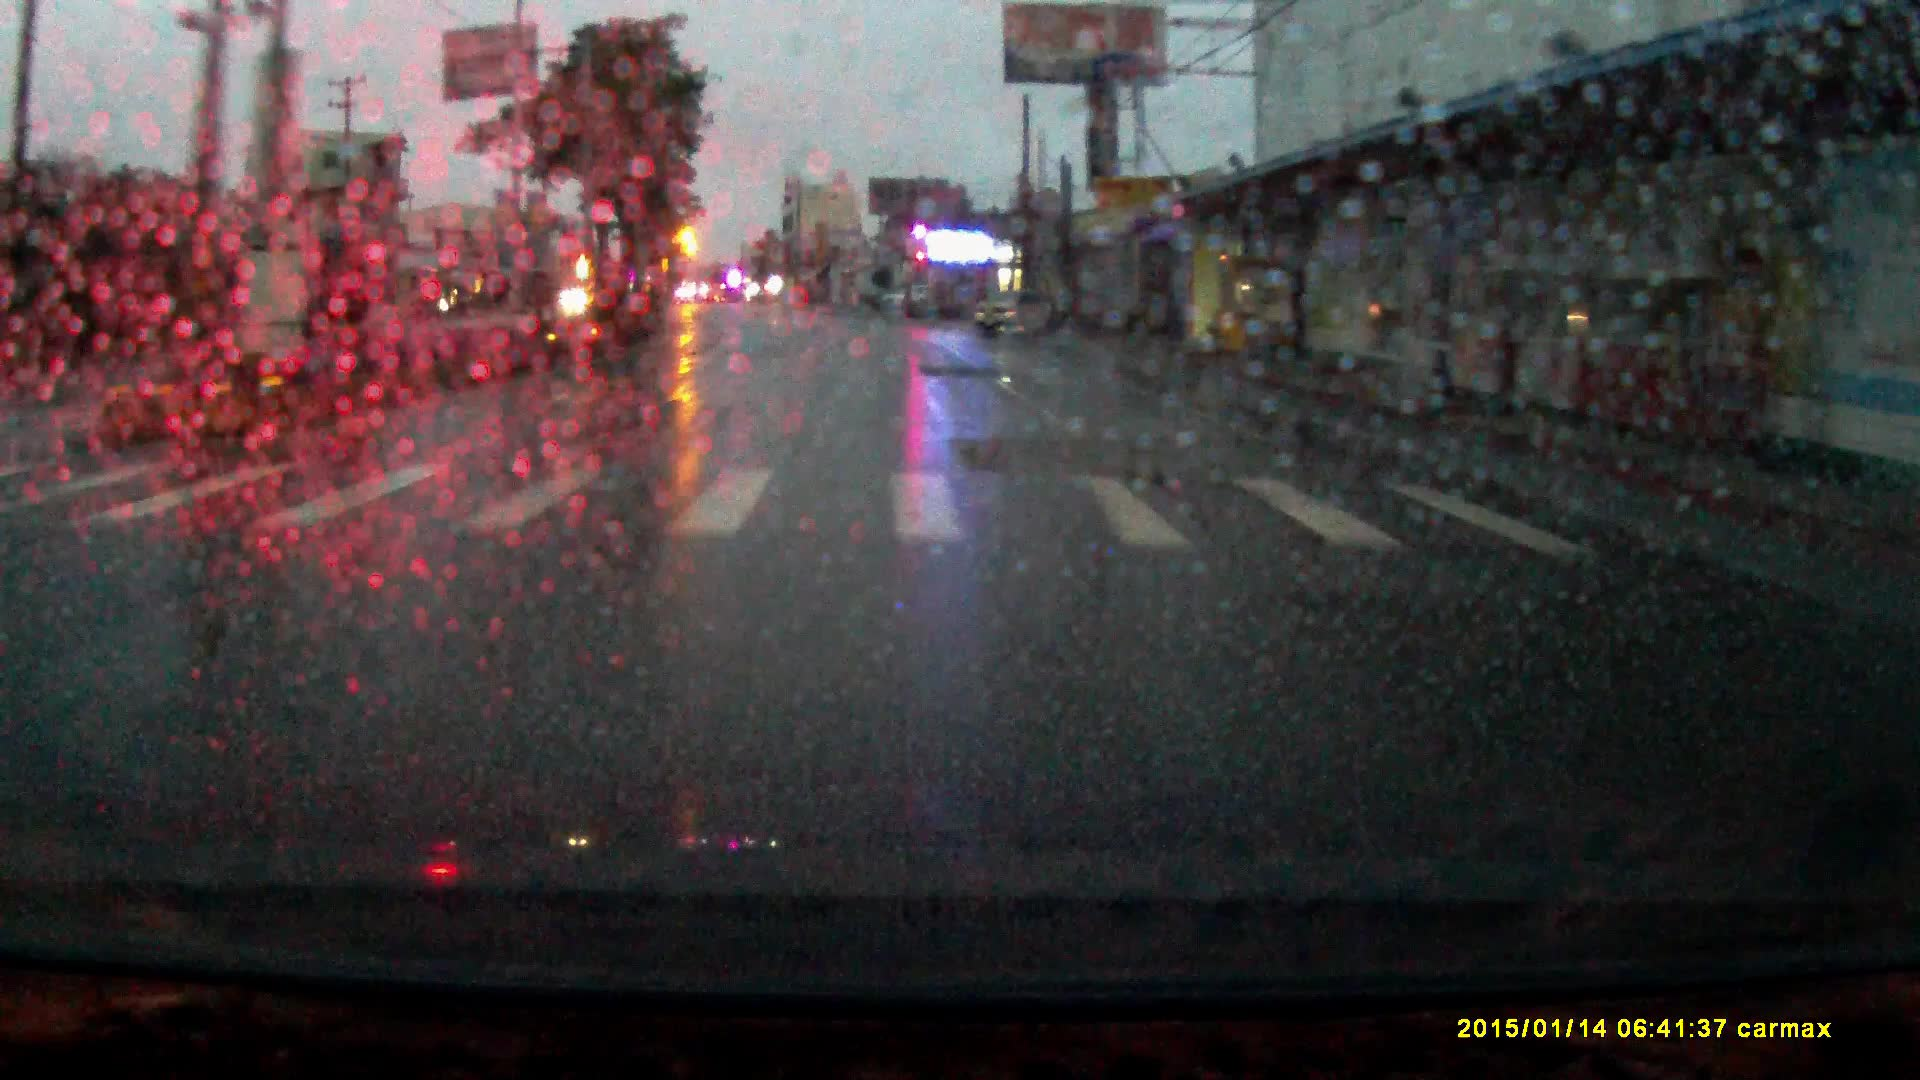vehicle: (971, 289, 1062, 340), (880, 284, 930, 311)
